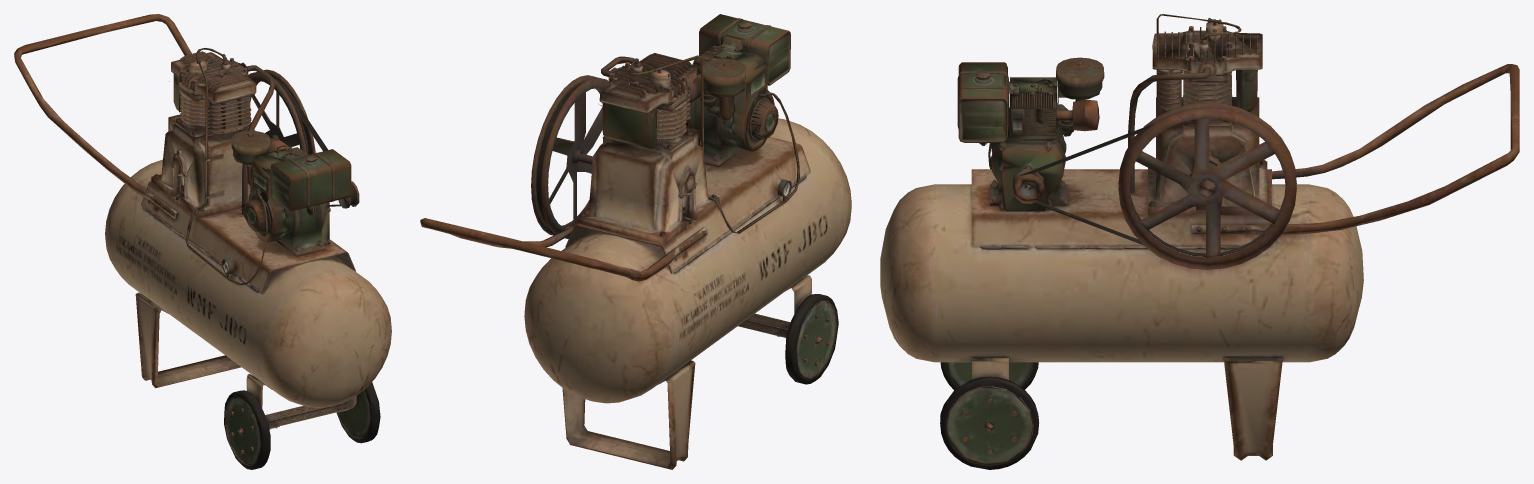
File: old_military_compressor.glb
3 renders of one model, left to right at view 1: azimuth 30°, elevation 25°; view 2: azimuth 150°, elevation 25°; view 3: azimuth 270°, elevation 25°, orthographic. The views are drawn at different scales.
Visible parts, largest first — view 1: old_military_compressor; view 2: old_military_compressor; view 3: old_military_compressor.
Boxes of the visible parts, x1,y1,x2,y2 form: old_military_compressor: (14,14,391,469); old_military_compressor: (420,14,851,469); old_military_compressor: (880,14,1519,469).
Size of the model in its own units: 0.597 by 1.18 by 1.67.
Materials: 2 (2 with a texture image).
